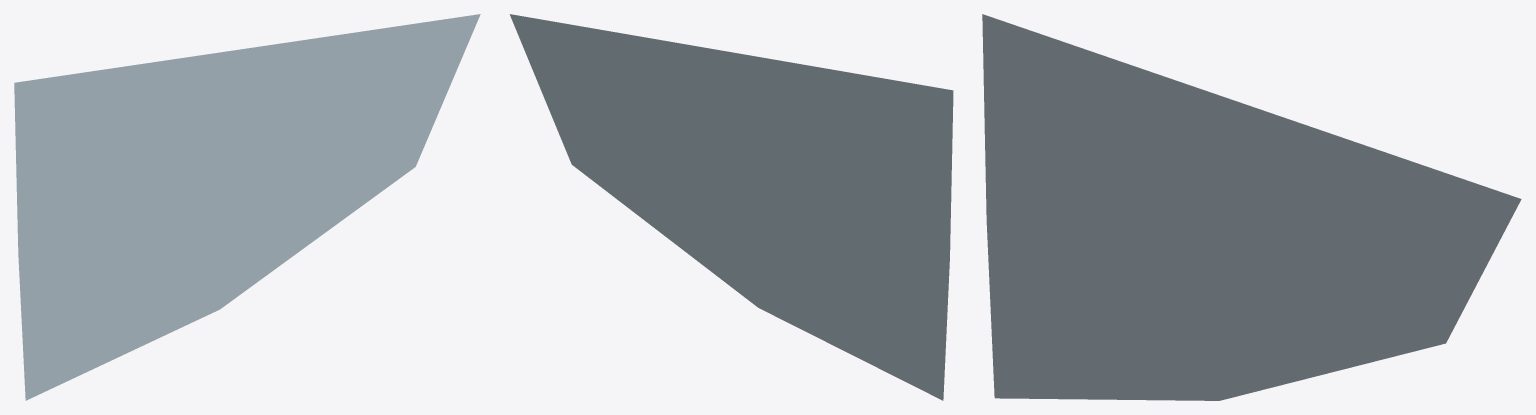
3 views of the same model, side by side, from view 1: azimuth 30°, elevation 25°; view 2: azimuth 150°, elevation 25°; view 3: azimuth 330°, elevation 25° (orthographic). The views are drawn at different scales.
Parts seen in each view (by area): view 1: pCube54; view 2: pCube54; view 3: pCube54.
Boxes of the visible parts, <box> form: pCube54: <box>14,14,480,400</box>; pCube54: <box>509,14,953,400</box>; pCube54: <box>982,14,1521,400</box>.
Size of the model in its own units: 32.83 by 21.85 by 0.7876.
